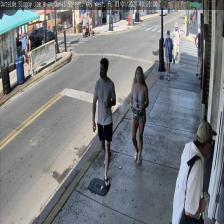person: (172, 122, 216, 224), (92, 57, 116, 186), (130, 65, 148, 164), (162, 30, 173, 79)
